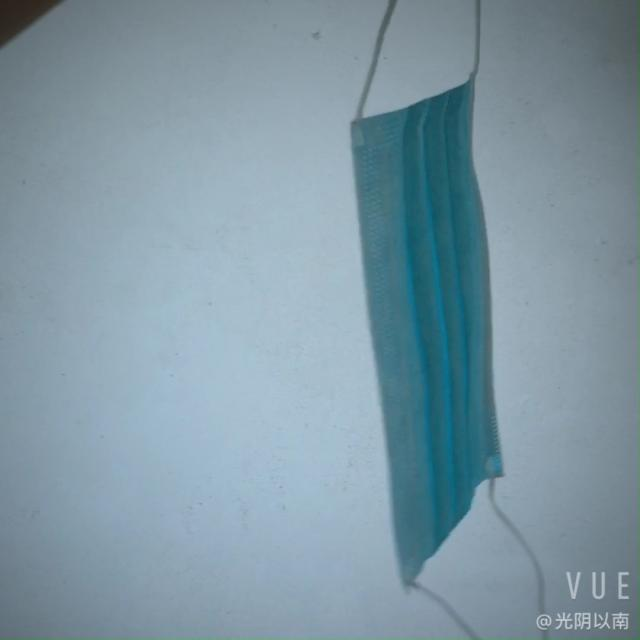face mask: (350, 79, 520, 592)
